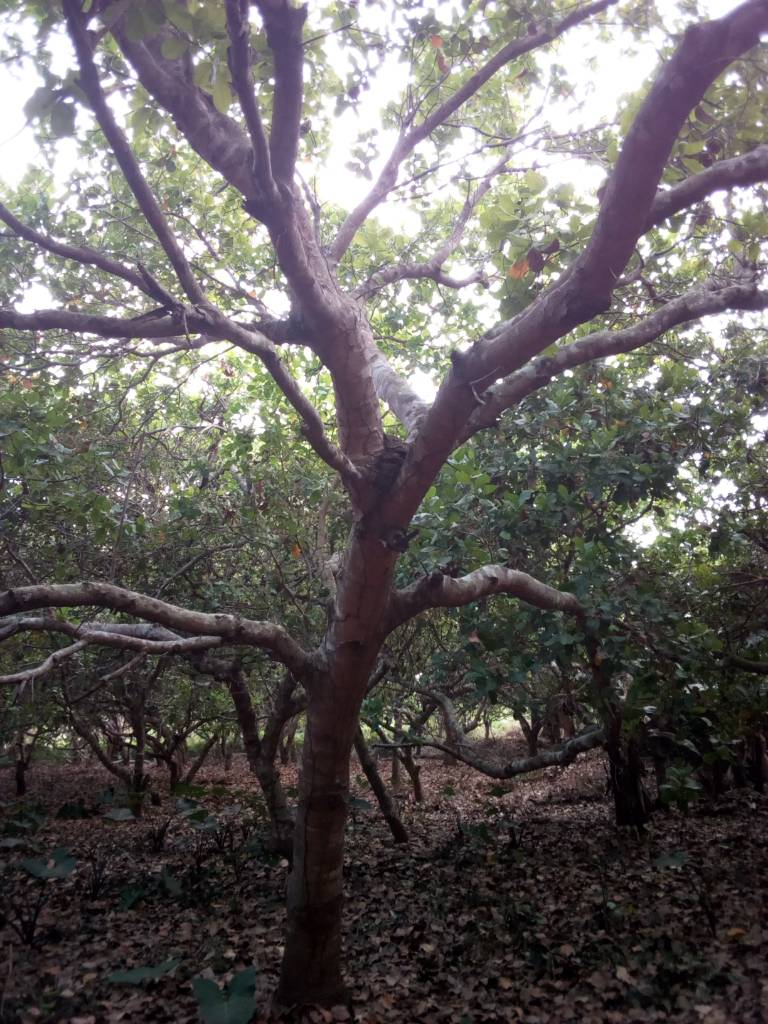Termites: (335, 557, 380, 652), (369, 430, 402, 502)
